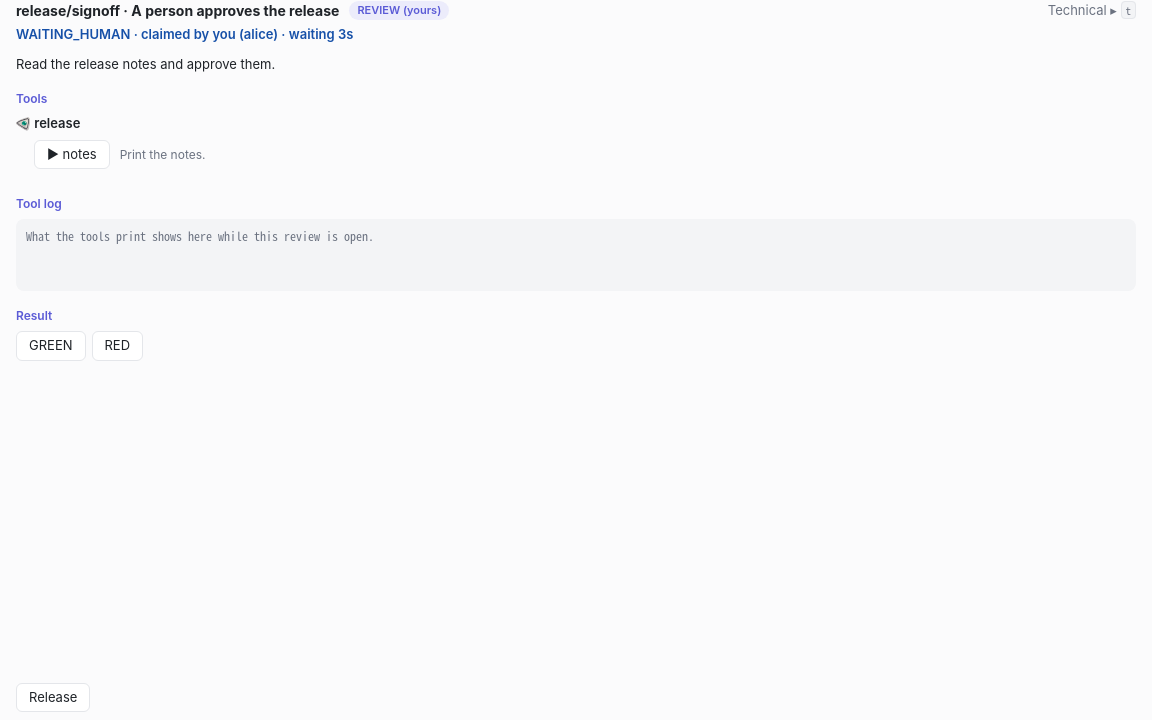
Scenario: HumanDetail › does not steal focus moved outside the Detail while submission is running
The image size is (1152, 720).
Check: the text "REVIEW (yours)" is shown, box [349,1,449,20]
Type keys "g"
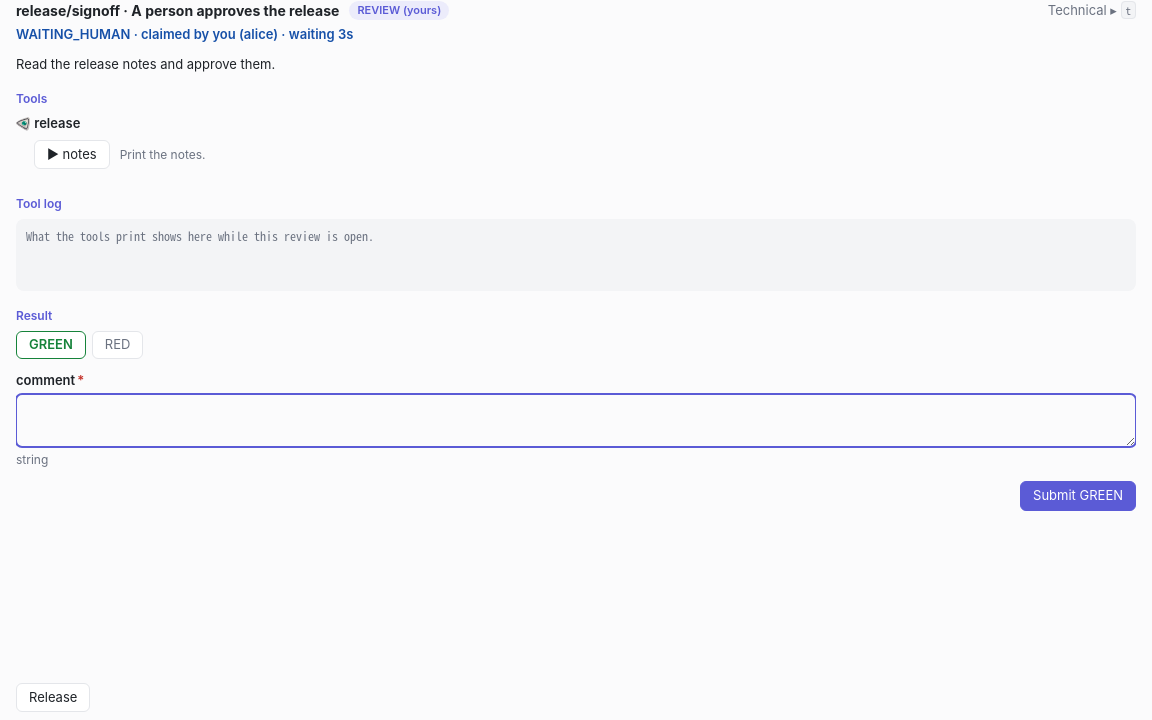
Check: the text box labelled "comment*" is shown, box [16,394,1136,447]
Type keys "{Control>}s{/Control}"
(page scrolled)
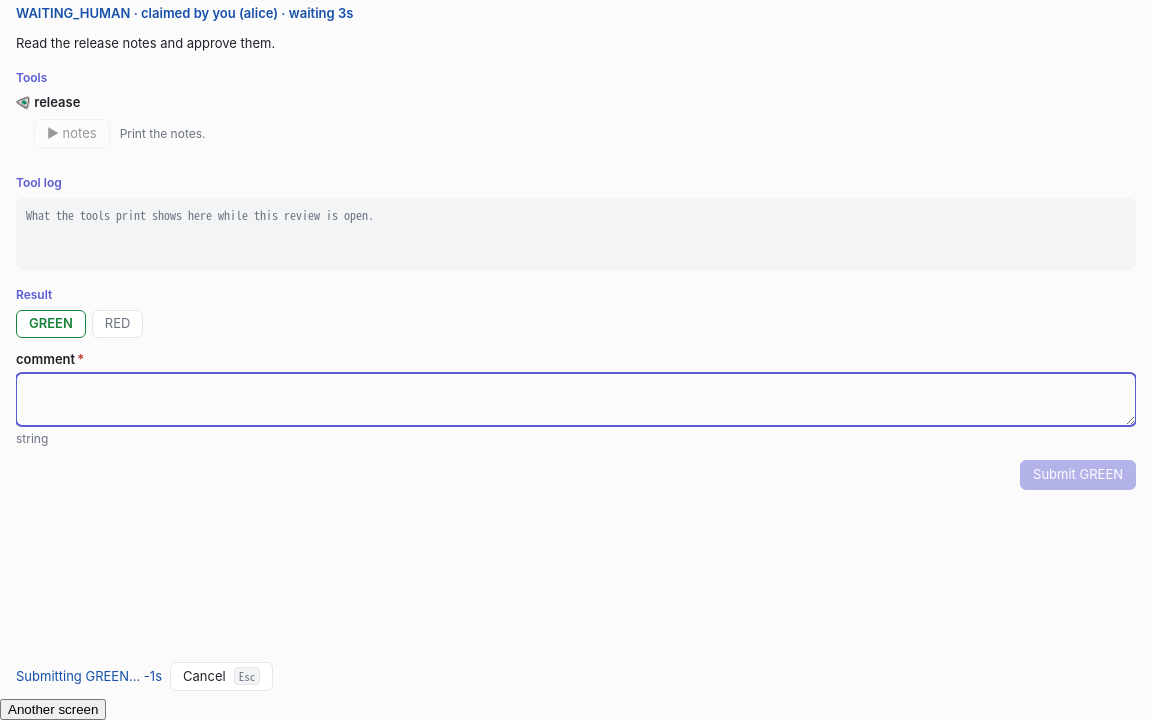
Check: the text "Submitting GREEN… -1s Cancel Esc" is shown, box [16,662,273,691]
Click the button "Another screen".
click(53, 710)  # box [0,699,106,719]
(page scrolled)
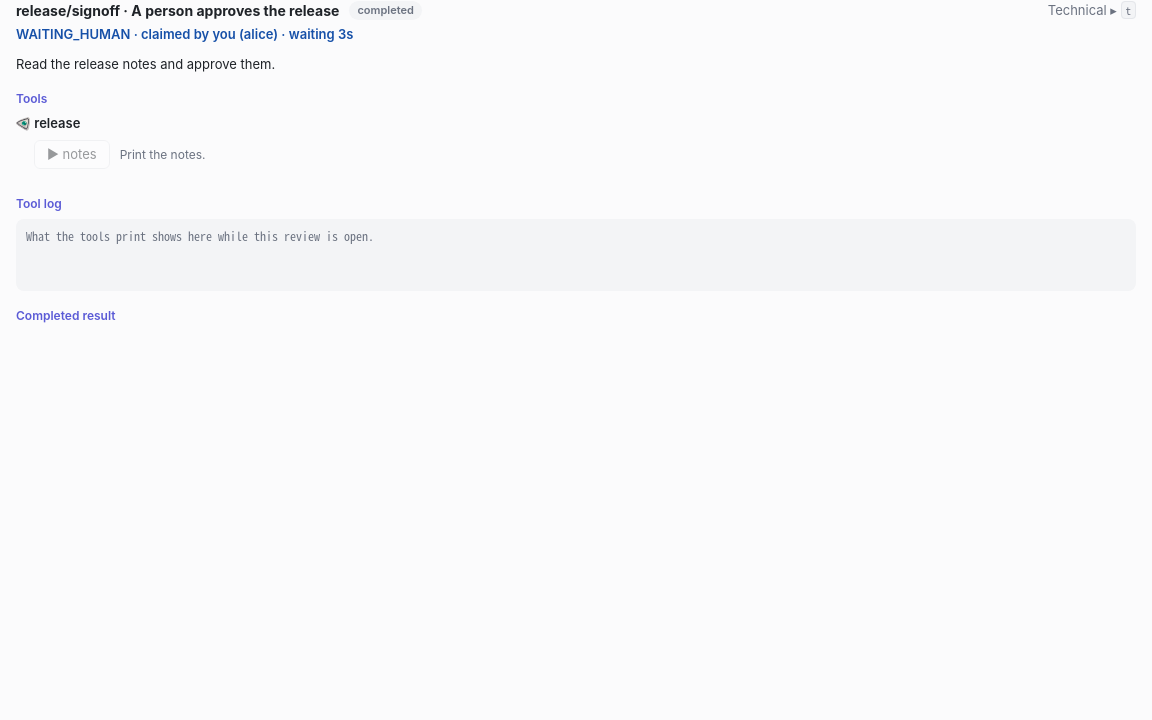
Check: the heading "Completed result" is shown, box [16,308,116,323]
